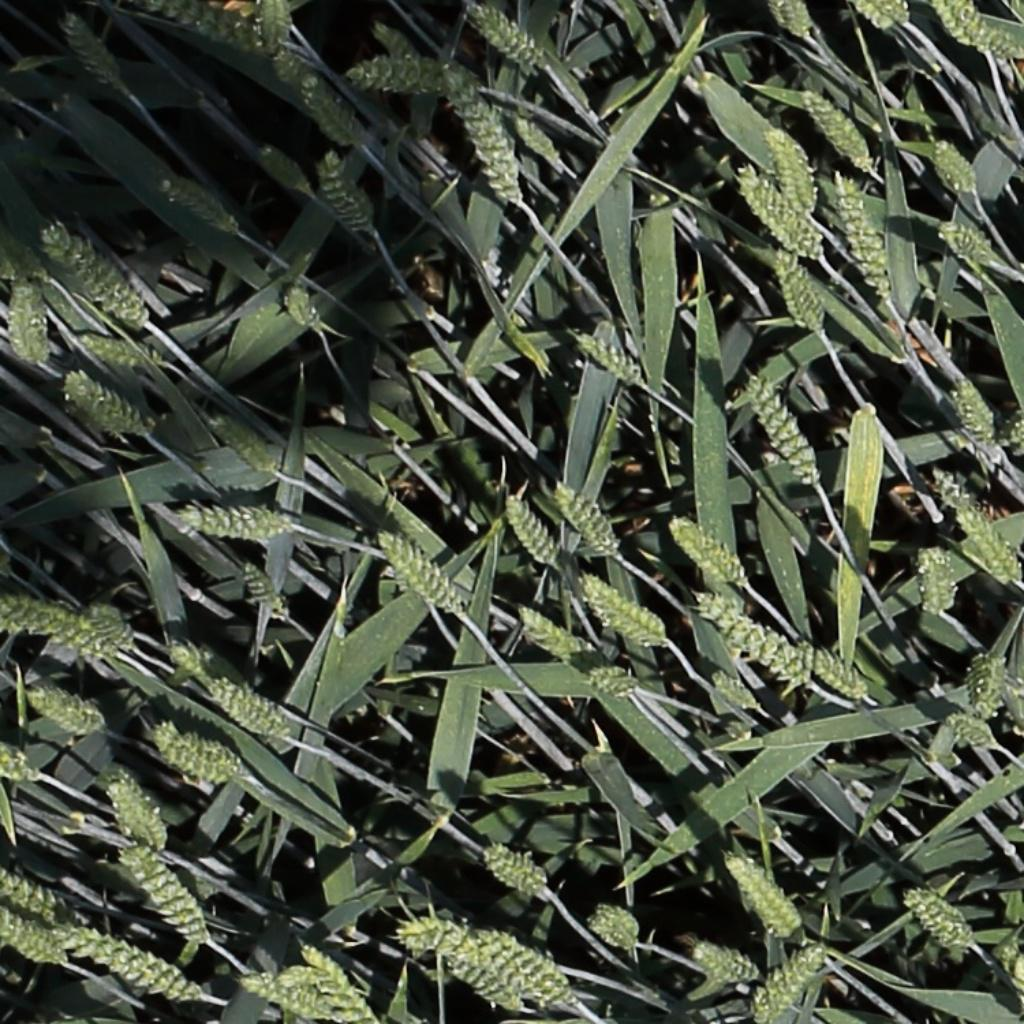0-0: (392, 904, 601, 1018), (50, 927, 199, 1002), (40, 219, 144, 326), (693, 591, 808, 686), (742, 368, 821, 488), (118, 846, 206, 950), (831, 169, 894, 303), (374, 529, 462, 617), (738, 169, 821, 259), (797, 83, 876, 172), (722, 853, 800, 943), (926, 459, 1010, 542), (460, 92, 520, 207), (293, 936, 368, 1021), (753, 140, 819, 236), (956, 511, 1024, 599), (4, 598, 106, 656), (547, 477, 619, 559), (176, 494, 294, 544), (580, 576, 664, 641), (667, 518, 746, 587), (57, 6, 121, 91), (438, 947, 521, 1011), (756, 942, 824, 1019), (107, 771, 166, 858), (499, 490, 561, 572), (299, 79, 365, 156), (154, 0, 257, 49), (314, 147, 370, 237), (761, 121, 815, 214), (62, 374, 144, 435), (767, 245, 823, 334), (464, 4, 540, 68), (208, 679, 286, 740), (150, 727, 233, 783), (783, 644, 865, 699), (154, 174, 233, 230), (237, 973, 331, 1019), (206, 410, 274, 473), (513, 604, 580, 663), (573, 331, 643, 386), (950, 372, 999, 450), (939, 2, 1008, 57), (151, 620, 202, 694), (232, 557, 288, 623), (0, 868, 64, 925), (902, 891, 970, 944), (970, 665, 1024, 729), (928, 132, 981, 197), (1, 912, 64, 966), (480, 850, 546, 899), (920, 543, 965, 614), (25, 692, 101, 734), (8, 273, 40, 370), (686, 942, 759, 983), (506, 107, 559, 163), (932, 1, 989, 53), (366, 14, 425, 63), (260, 51, 316, 101), (346, 69, 469, 90), (252, 143, 308, 189), (587, 660, 639, 706), (80, 607, 133, 652), (77, 333, 146, 367), (281, 278, 320, 334), (588, 906, 637, 950), (937, 219, 989, 258), (709, 673, 759, 712), (776, 0, 813, 46), (946, 718, 996, 750), (268, 0, 294, 58), (1002, 395, 1024, 458), (0, 750, 39, 785), (856, 0, 899, 30), (875, 0, 910, 25)
